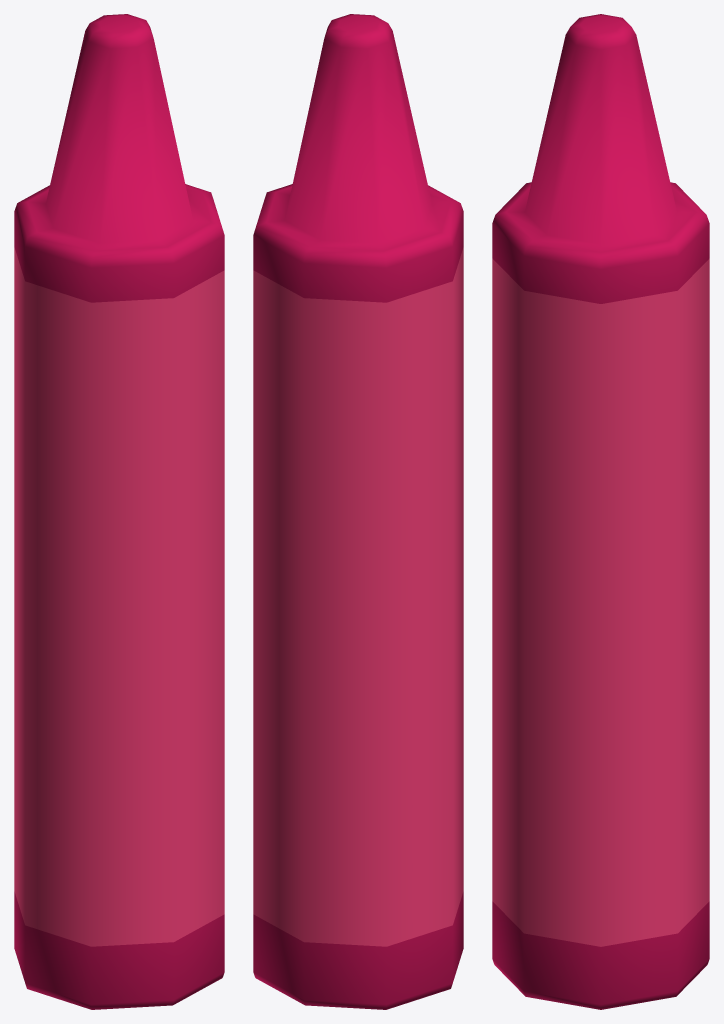
Rendered from CrayonPink.fbx.
3 renders of one model, left to right at view 1: azimuth 30°, elevation 25°; view 2: azimuth 150°, elevation 25°; view 3: azimuth 270°, elevation 25°, orthographic.
Visible parts, largest first — view 1: CrayonPink; view 2: CrayonPink; view 3: CrayonPink.
Part boxes in pixels (x1,y1,x2,y2): CrayonPink: (14, 14, 224, 1009); CrayonPink: (253, 14, 463, 1009); CrayonPink: (492, 14, 709, 1009).
Bounding box in the file's own units: 2.1 × 10.01 × 2.1.
